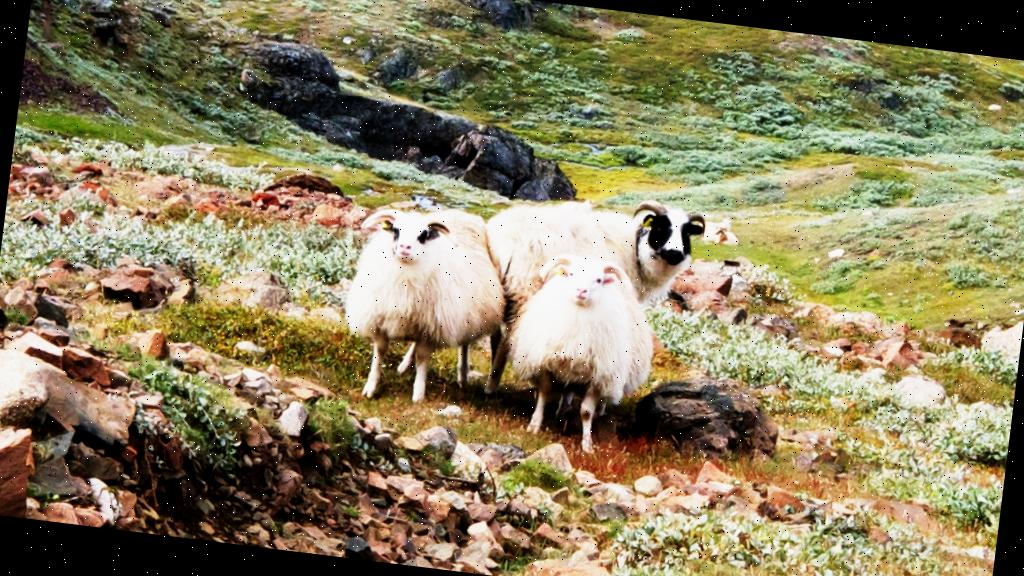Sheep: (473, 178, 703, 419), (334, 190, 522, 420), (498, 236, 675, 458)
